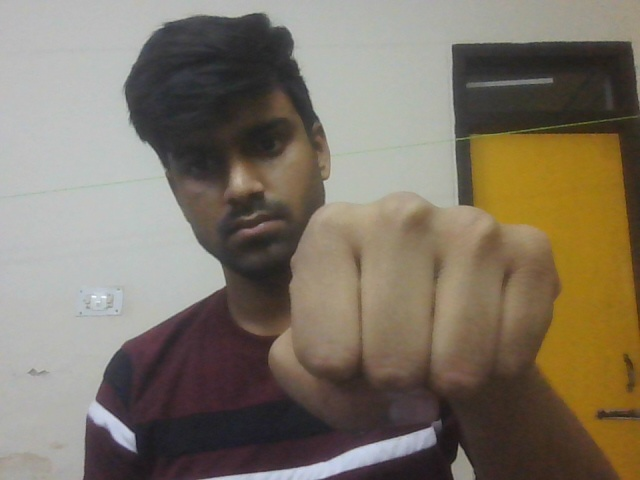yes: (258, 190, 605, 469)
